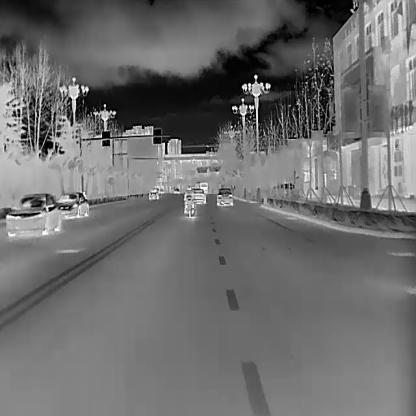car: (6, 193, 61, 236), (56, 191, 88, 219), (183, 189, 195, 217), (217, 187, 233, 206), (190, 187, 206, 204), (195, 181, 208, 194), (148, 188, 159, 201), (172, 188, 179, 193)
